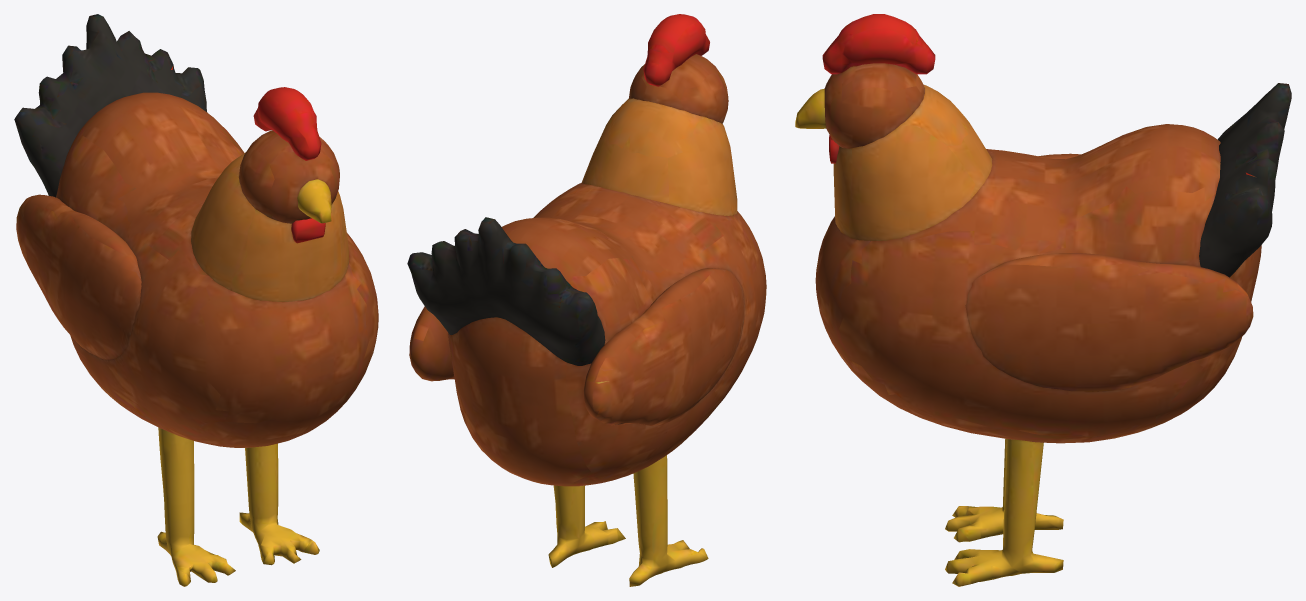
File: animal_chicken.glb
The picture shows the model from 3 angles, left to right: view 1: azimuth 30°, elevation 25°; view 2: azimuth 150°, elevation 25°; view 3: azimuth 270°, elevation 25°; orthographic projection. The views are drawn at different scales.
Parts seen in each view (by area): view 1: animal_chicken, head, leg0, leg1; view 2: animal_chicken, head, leg0, leg1; view 3: animal_chicken, head, leg1, leg0.
Boxes of the visible parts, box(x1,y1,x2,y2) form: animal_chicken: box(14, 14, 378, 447); head: box(239, 87, 339, 243); leg0: box(157, 427, 235, 586); leg1: box(239, 443, 319, 565); animal_chicken: box(407, 98, 766, 486); head: box(629, 14, 728, 123); leg0: box(629, 455, 708, 586); leg1: box(548, 485, 625, 567); animal_chicken: box(815, 83, 1291, 443); head: box(795, 14, 935, 163); leg1: box(945, 439, 1063, 586); leg0: box(945, 438, 1063, 542).
Bounding box in the file's own units: 0.1382 × 0.278 × 0.2331.
1 material, 1 textured.
